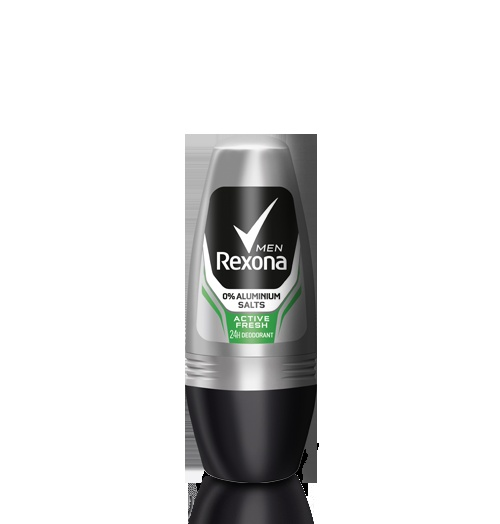rexona: (185, 134, 316, 483)
